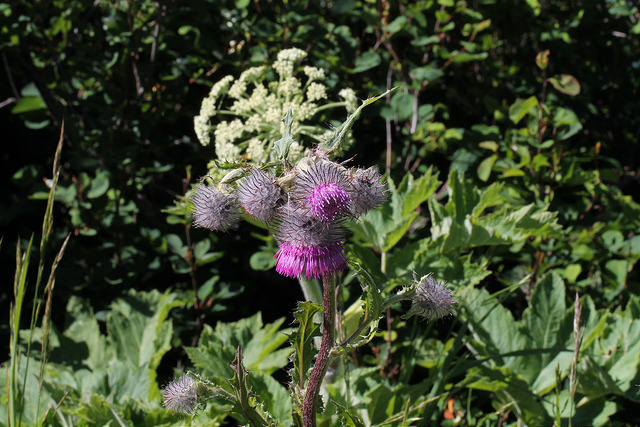thistle: (277, 206, 348, 290), (291, 161, 351, 224)
